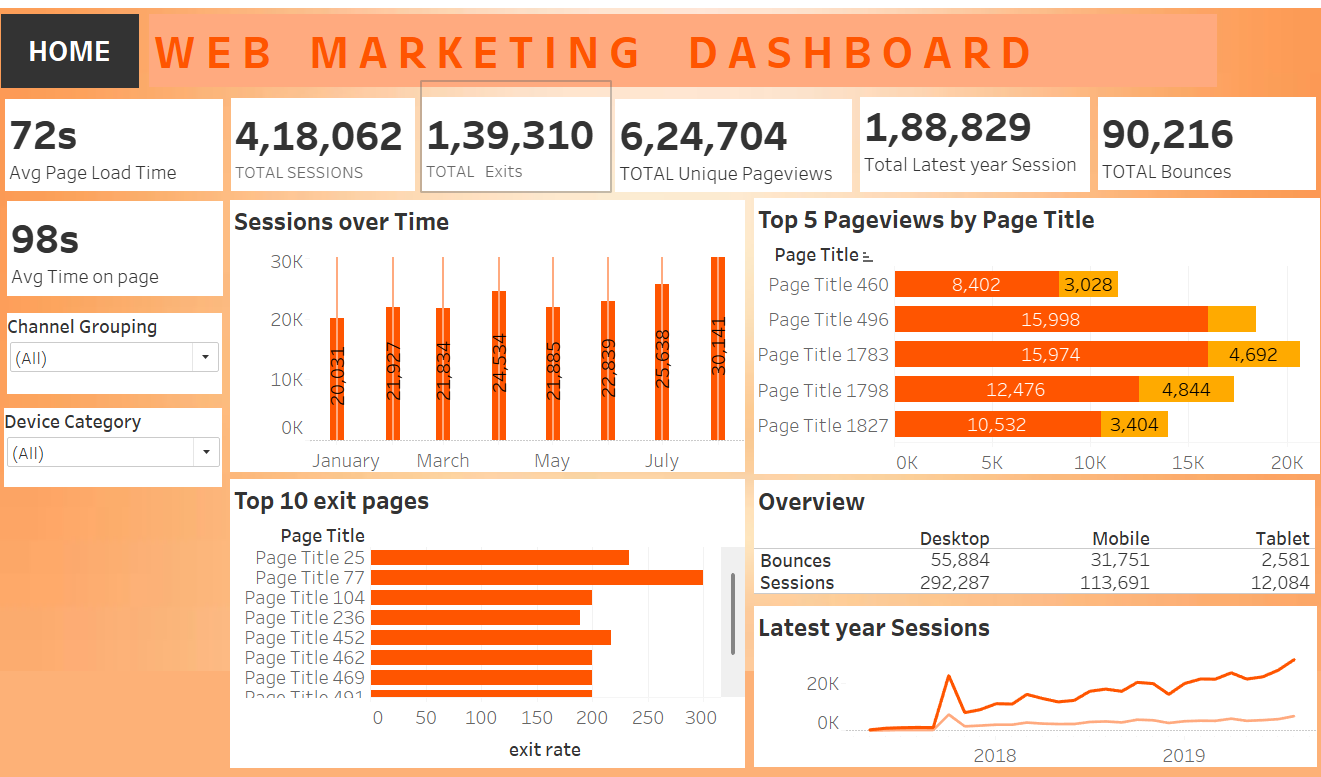

Layout of this report page (visuals, bound fields, positions):
{"tool":"tableau","page":{"name":"Dashboard 1 (2)","canvas":[1000,1000],"units":"permille","ordinal":1},"visuals":[{"type":"text","box":[5,10,181.1,87]},{"type":"text","box":[186.1,10,808.9,87]},{"type":"worksheet","title":"Bounces","mark":"Automatic","box":[848.1,92.5,149.4,117.5]},{"type":"worksheet","title":"Exits","mark":"Automatic","box":[331.2,95,161.9,135]},{"type":"dashboard-object","box":[5,97,178.1,65]},{"type":"blank","box":[183.1,97,811.9,893]},{"type":"worksheet","title":"Unique Page Views","mark":"Automatic","box":[494.4,98.8,163.1,111.2]},{"type":"worksheet","title":"Total Latest year session","mark":"Automatic","box":[667.5,102.5,171.9,118.8]},{"type":"worksheet","title":"Total Session","mark":"Automatic","box":[183.1,103.8,145,126.2]},{"type":"dashboard-object","box":[5,162,178.1,65]},{"type":"dashboard-object","box":[5,227,178.1,65]},{"type":"worksheet","title":"sessions over time","mark":"Automatic","rows":["Calculation_2358197396680806403"],"cols":["Date"],"box":[185.6,235,814.4,356.2]},{"type":"dashboard-object","box":[5,292,178.1,65]},{"type":"blank","box":[5,357,178.1,633]},{"type":"worksheet","title":"Load time","mark":"Automatic","box":[16.9,405,153.8,133.8]},{"type":"worksheet","title":"Time on page","mark":"Automatic","box":[15.6,583.8,154.4,117.5]},{"type":"worksheet","title":"Total sessions by device","mark":"Bar","rows":["Device Category"],"cols":["Sessions"],"box":[184.4,593.8,370.6,406.2]},{"type":"worksheet","title":"Session by page title","mark":"Automatic","rows":["Sessions"],"cols":["Page Title"],"box":[564.4,612.5,432.5,386.2]},{"type":"legend","title":"Session by page title","param":"[federated.1m6ulvh0c3j91d1e36qp70bncnm7].[none:Device Category:nk]","box":[870,618.8,87.5,126.2]},{"type":"filter","title":"Total Session","param":"[federated.1m6ulvh0c3j91d1e36qp70bncnm7].[none:Channel Grouping:nk]","box":[16.9,741.2,151.9,106.2]}]}

Visuals, with their boxes on the dashboard's canvas, which has no fixed pixel size, in thousandths of its width and height (x1, y1, x2, y2). These are canvas units, not pixel positions in the 1321x777 screenshot, which may show the page scaled, cropped or inside an application window:
text: <bbox>5, 10, 186, 97</bbox>
text: <bbox>186, 10, 995, 97</bbox>
"Bounces" worksheet: <bbox>848, 92, 998, 210</bbox>
"Exits" worksheet: <bbox>331, 95, 493, 230</bbox>
dashboard-object: <bbox>5, 97, 183, 162</bbox>
blank: <bbox>183, 97, 995, 990</bbox>
"Unique Page Views" worksheet: <bbox>494, 99, 658, 210</bbox>
"Total Latest year session" worksheet: <bbox>668, 102, 839, 221</bbox>
"Total Session" worksheet: <bbox>183, 104, 328, 230</bbox>
dashboard-object: <bbox>5, 162, 183, 227</bbox>
dashboard-object: <bbox>5, 227, 183, 292</bbox>
"sessions over time" worksheet: <bbox>186, 235, 1000, 591</bbox>
dashboard-object: <bbox>5, 292, 183, 357</bbox>
blank: <bbox>5, 357, 183, 990</bbox>
"Load time" worksheet: <bbox>17, 405, 171, 539</bbox>
"Time on page" worksheet: <bbox>16, 584, 170, 701</bbox>
"Total sessions by device" worksheet (Bar marks): <bbox>184, 594, 555, 1000</bbox>
"Session by page title" worksheet: <bbox>564, 612, 997, 999</bbox>
"Session by page title" legend: <bbox>870, 619, 958, 745</bbox>
"Total Session" filter: <bbox>17, 741, 169, 847</bbox>
